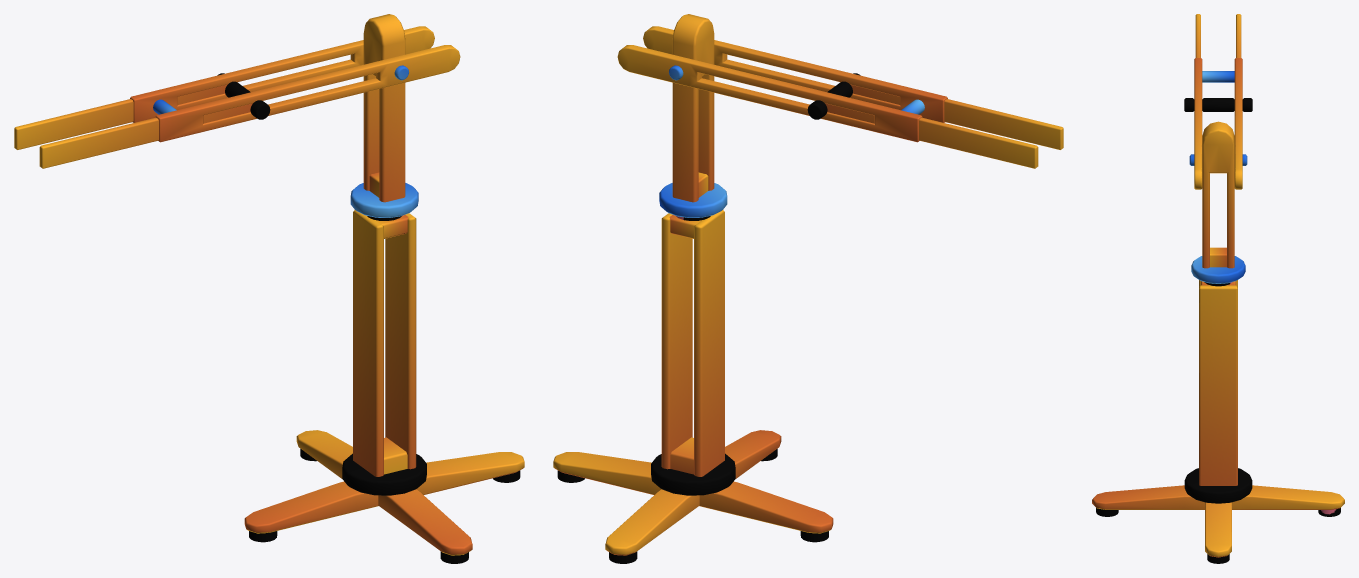
Rendered from Crane.fbx.
3 views of the same model, side by side, from view 1: azimuth 30°, elevation 25°; view 2: azimuth 150°, elevation 25°; view 3: azimuth 270°, elevation 25° (orthographic). The views are drawn at different scales.
Parts seen in each view (by area): view 1: Crane, Crane_Movable_1, Crane_UpperPart, Crane_Movable_2; view 2: Crane, Crane_Movable_1, Crane_UpperPart, Crane_Movable_2; view 3: Crane, Crane_UpperPart, Crane_Movable_1, Crane_Movable_2.
Part boxes in pixels (x1,y1,x2,y2): Crane: (244,210,524,563); Crane_Movable_1: (130,26,460,142); Crane_UpperPart: (350,14,418,217); Crane_Movable_2: (14,73,270,168); Crane: (553,210,833,563); Crane_Movable_1: (617,26,947,142); Crane_UpperPart: (659,14,727,217); Crane_Movable_2: (807,73,1063,168); Crane: (1092,280,1344,563); Crane_UpperPart: (1191,121,1245,283); Crane_Movable_1: (1189,58,1247,189); Crane_Movable_2: (1184,14,1252,111).
Size of the model in its own units: 474 by 447 by 265.
